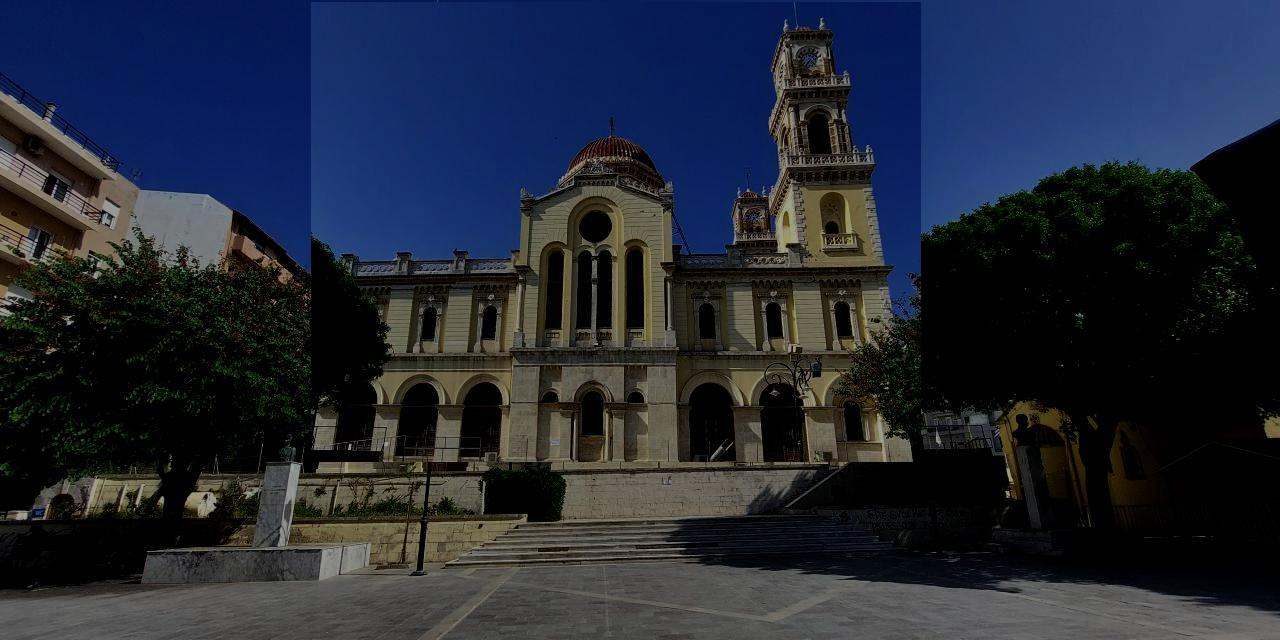Agios Minas: (312, 3, 922, 463)
